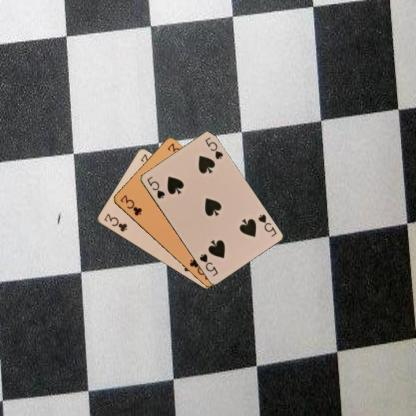3c: (117, 192, 143, 218), (101, 211, 128, 233)
5s: (144, 174, 166, 200), (256, 212, 278, 238)
